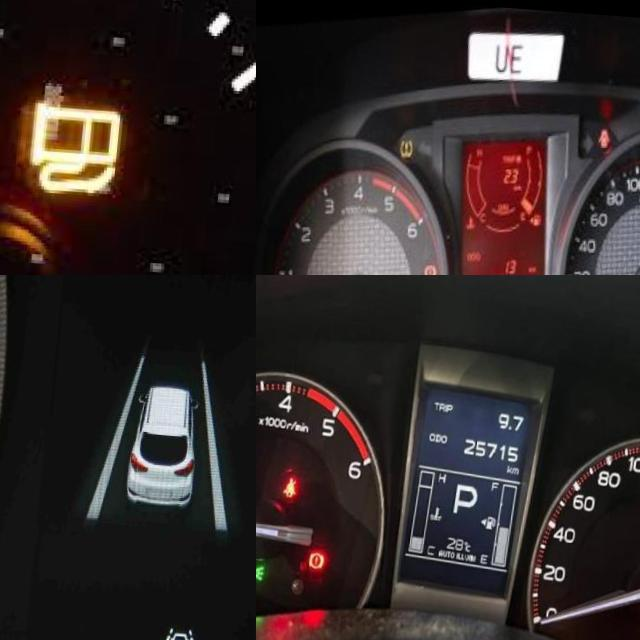Seat Belt: (288, 473, 306, 497)
